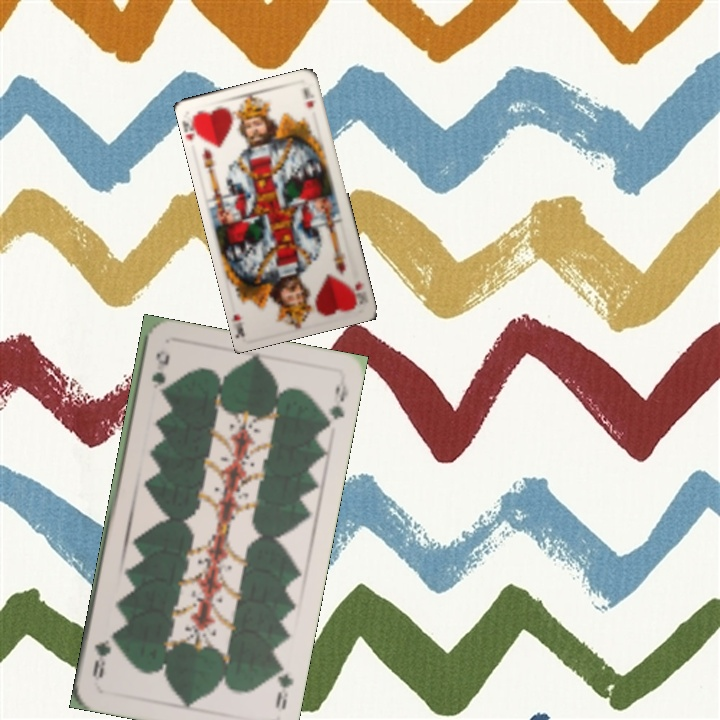G9: (271, 660, 296, 712), (147, 349, 171, 399)
HK: (180, 111, 205, 143), (350, 277, 367, 306)
